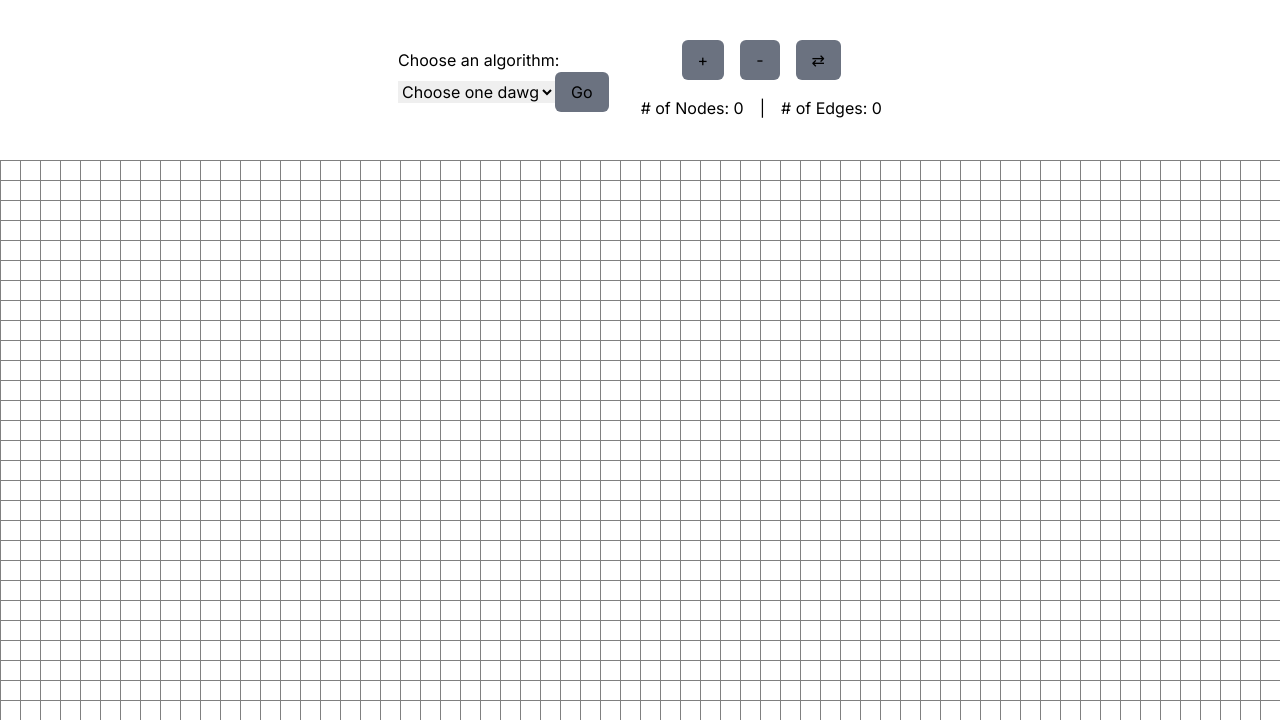
it: Home Component › toggles edge mode when the toggle button is clicked
Click the button "⇄" at point(818, 60), box [796, 40, 841, 80]
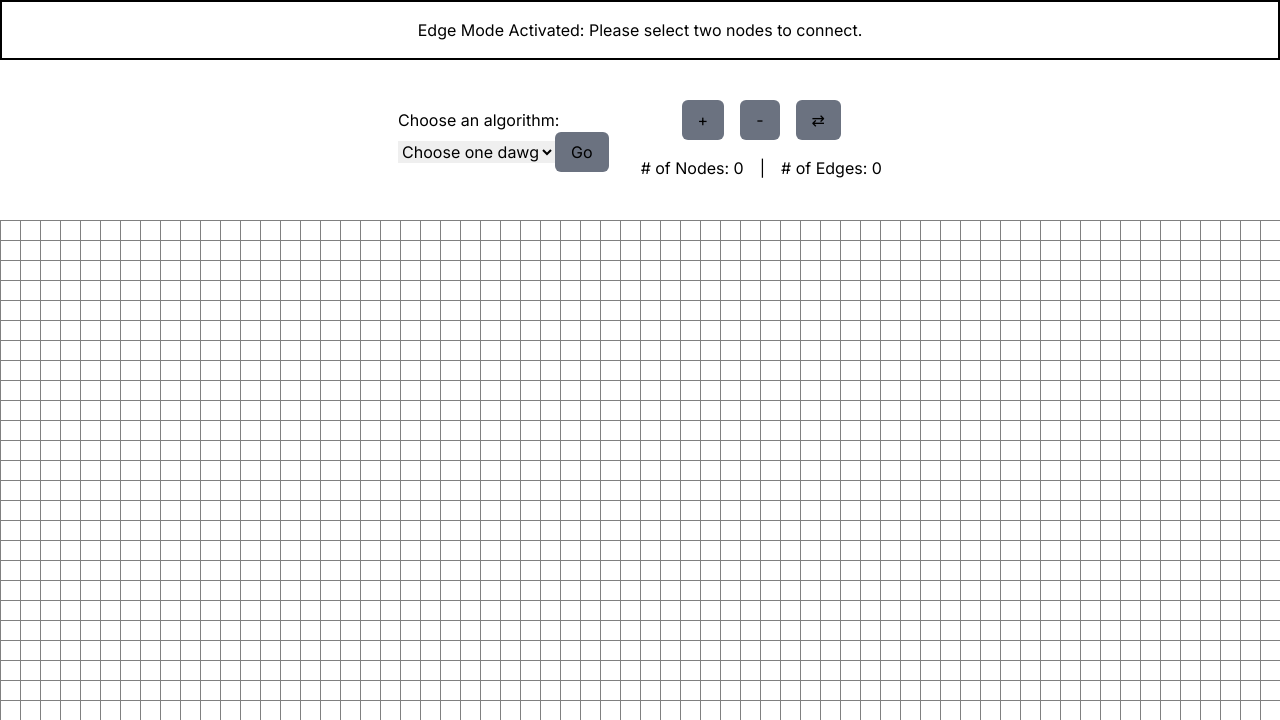
Now the text "Edge Mode Activated: Please select two nodes to connect." is shown, box [0, 0, 1279, 60]
